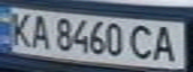0: (103, 20, 127, 57)
4: (69, 17, 90, 54)
6: (87, 18, 109, 56)
8: (51, 15, 75, 52)
A: (148, 22, 184, 63), (27, 11, 54, 51)
C: (127, 21, 160, 61)
K: (3, 8, 36, 48)
